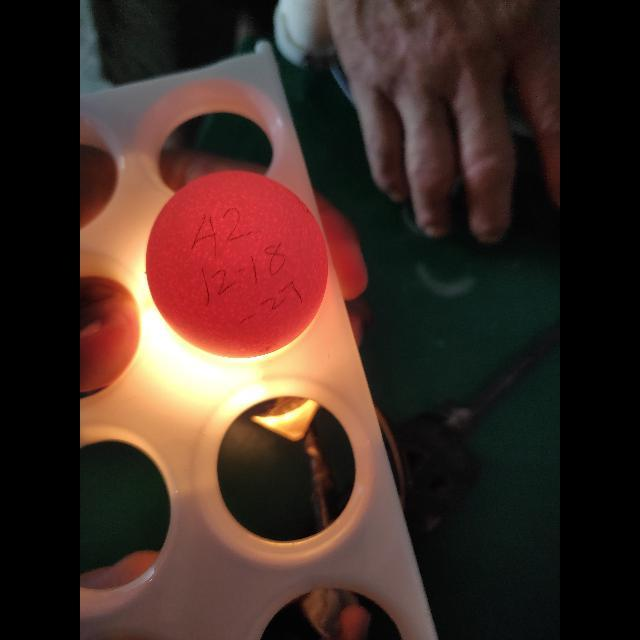Infertile: (144, 168, 332, 360)
